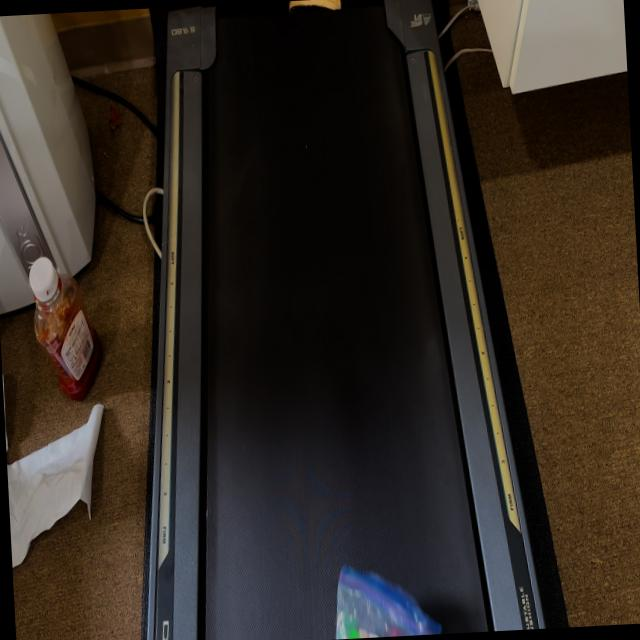Trash: (328, 558, 443, 639)
